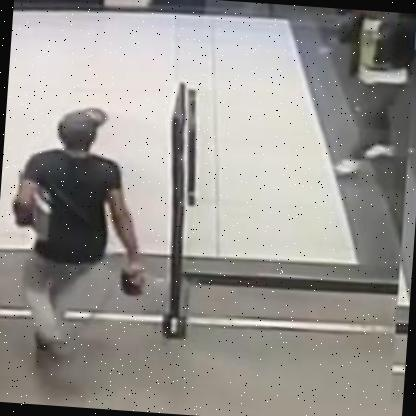person: (0, 93, 164, 378)
